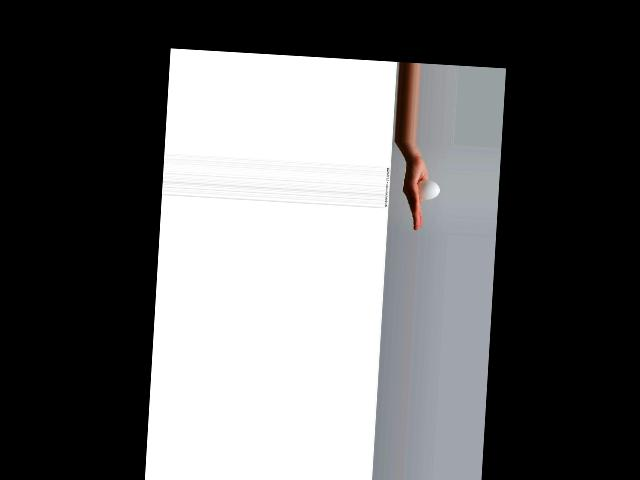egg: (416, 180, 440, 200)
